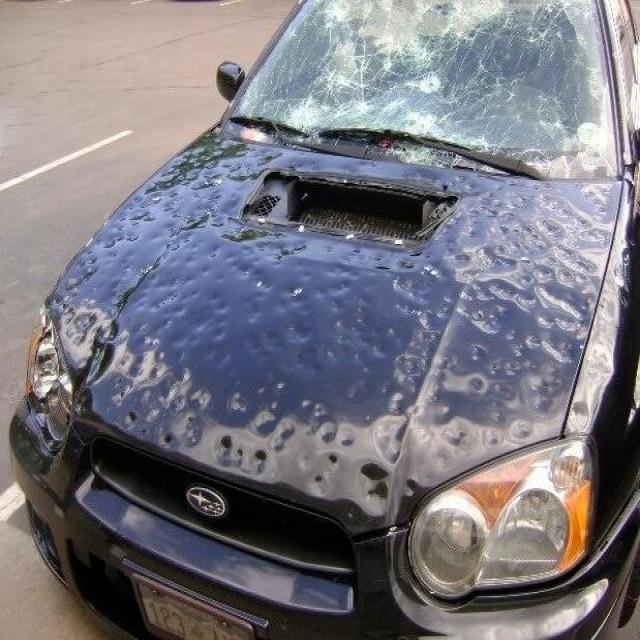crush: (53, 0, 640, 544)
